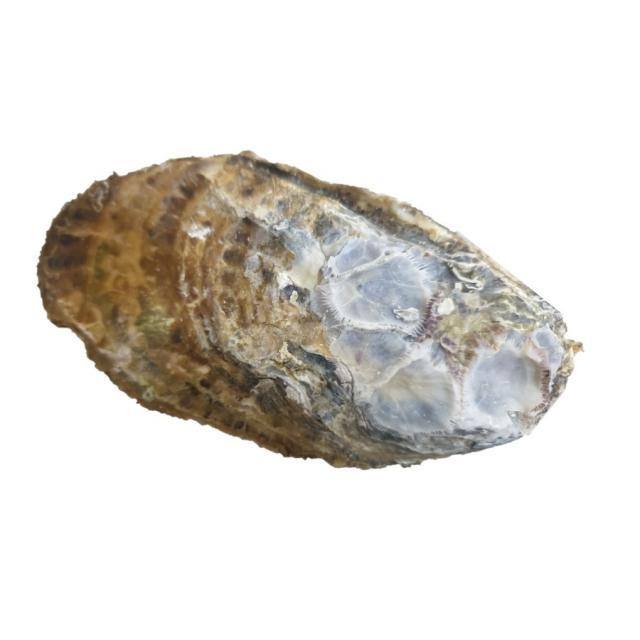Oyster- Indeterminate: (36, 152, 584, 472)
